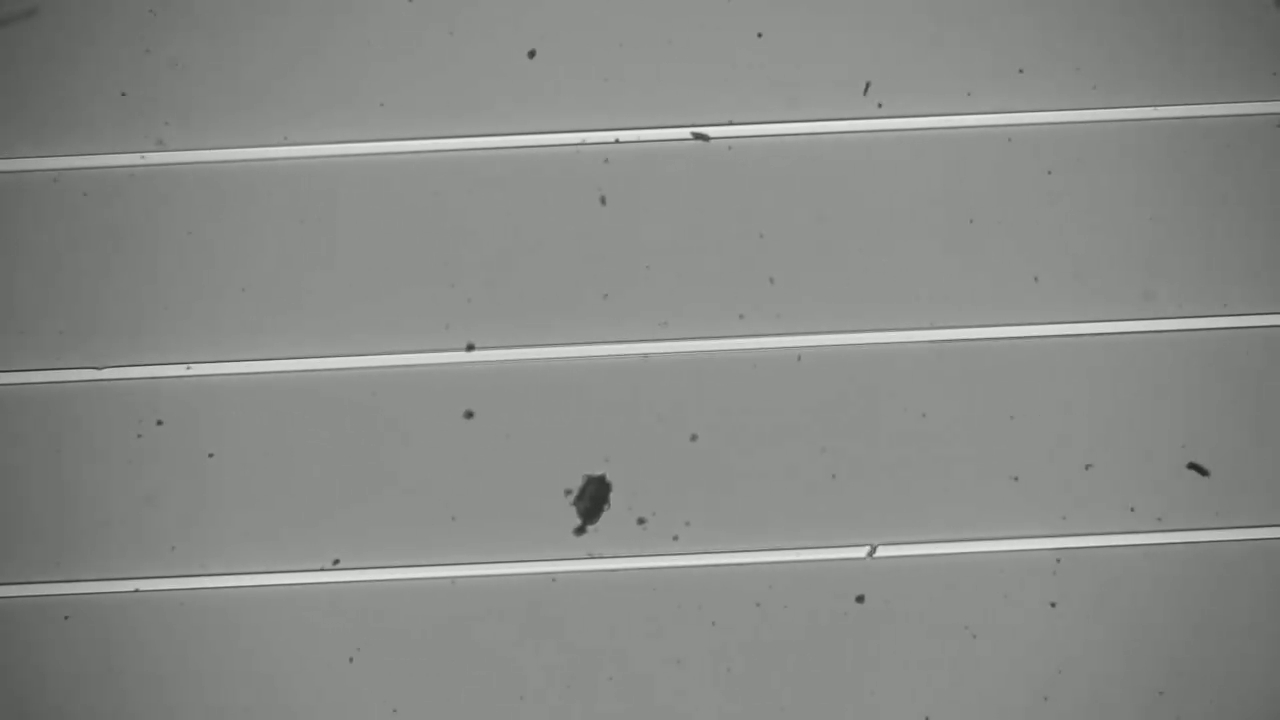stains_enbedded: (856, 532, 884, 565)
